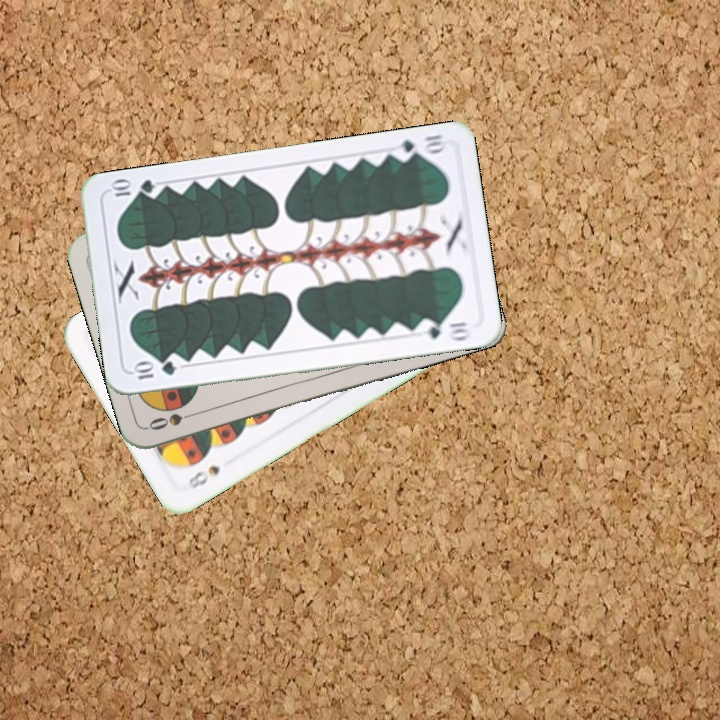G10: (389, 130, 450, 164), (129, 357, 179, 382)
S8: (184, 461, 223, 492)
SO: (144, 407, 203, 433)
